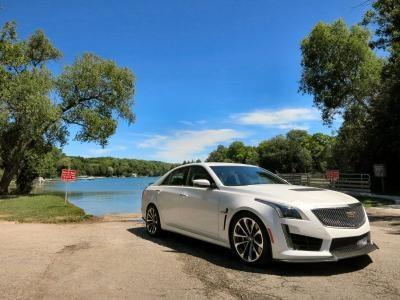car: (138, 161, 382, 269)
